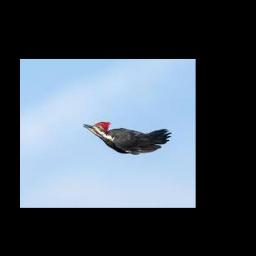Woodpecker: (84, 122, 173, 154)
